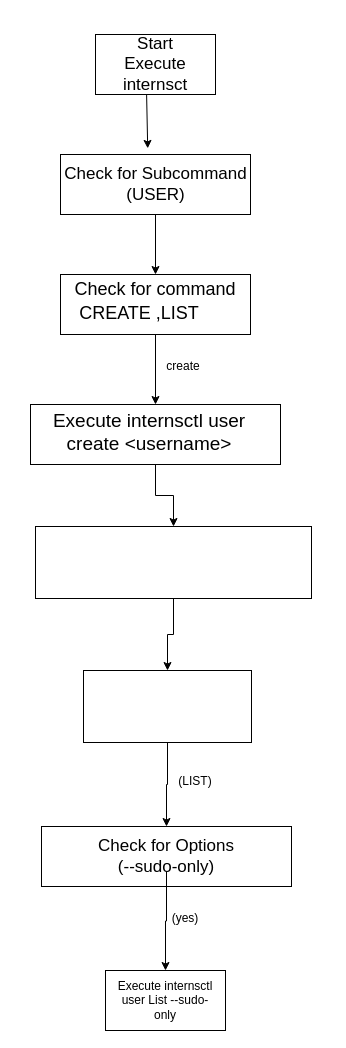
Some shapes in this 346 by 1048 pixel diagram are drawn without their labels. The box of each missing label's shape, as (x1, y1, x2, y2) in pixels:
End execution complete: (82, 670, 252, 742)
User Created with login Access: (34, 526, 312, 598)
